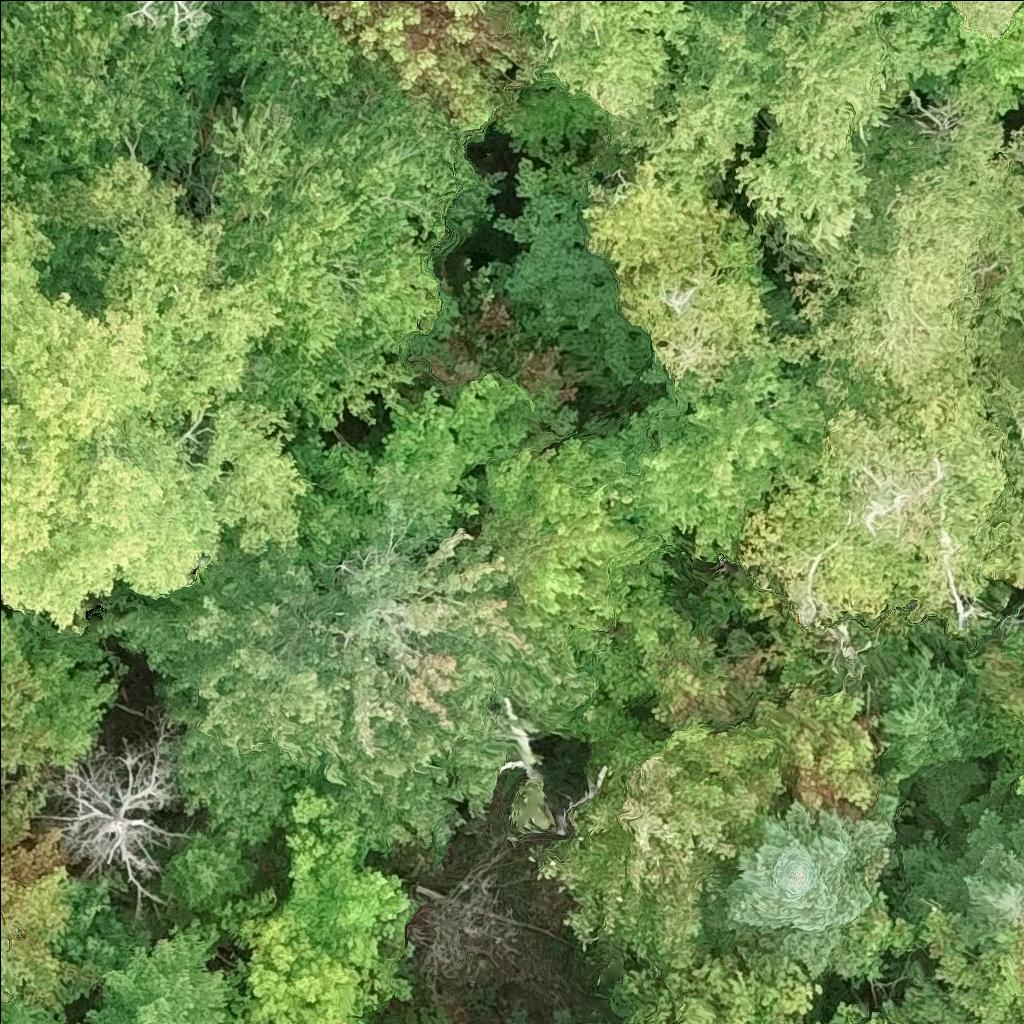crown: (96, 466, 600, 867), (0, 158, 309, 636), (208, 0, 475, 431), (753, 74, 1023, 406), (650, 0, 981, 255), (734, 375, 1023, 645), (0, 0, 219, 315), (534, 717, 811, 966), (475, 399, 679, 667), (620, 341, 824, 564), (215, 788, 424, 1002), (582, 160, 771, 391), (552, 580, 790, 745), (725, 795, 897, 979), (843, 848, 1023, 1023), (0, 601, 125, 853), (306, 0, 535, 131), (712, 687, 882, 820), (57, 728, 174, 911), (517, 0, 690, 120), (880, 644, 985, 824), (230, 913, 388, 1023), (904, 794, 1023, 940), (87, 920, 227, 1023), (410, 862, 513, 983), (966, 626, 1023, 802), (0, 830, 71, 967), (155, 833, 259, 923), (496, 694, 558, 834), (957, 1, 1023, 114), (880, 961, 982, 1023), (120, 0, 212, 46), (949, 0, 1023, 43), (224, 961, 254, 1023), (822, 0, 894, 22), (822, 1004, 889, 1023), (756, 0, 809, 10), (453, 0, 494, 8), (921, 0, 941, 9), (1009, 613, 1023, 620), (755, 337, 764, 340), (764, 340, 767, 341)
